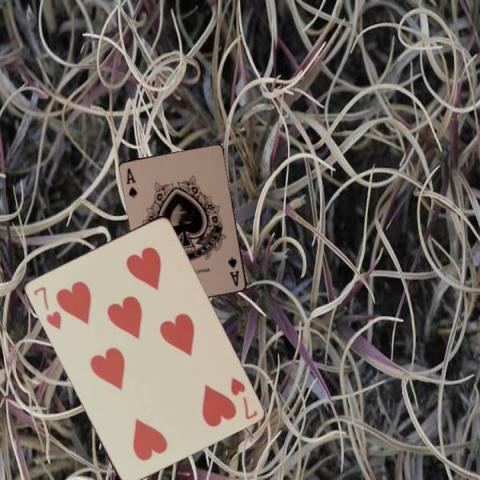7h: (29, 283, 63, 331), (227, 374, 258, 421)
As: (225, 254, 241, 288), (123, 166, 139, 199)
